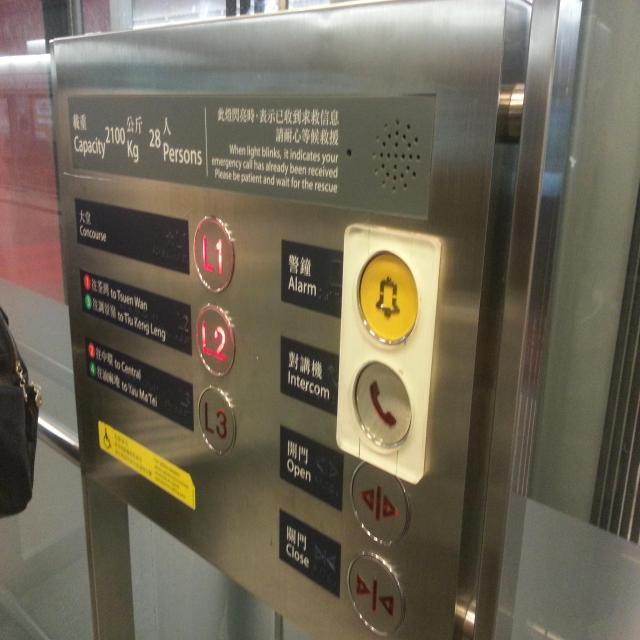L1: (192, 213, 238, 294)
L2: (194, 302, 236, 379)
L3: (196, 384, 238, 456)
alarm: (355, 250, 419, 347)
call: (351, 360, 412, 449)
close: (346, 552, 404, 636)
open: (348, 462, 410, 548)
